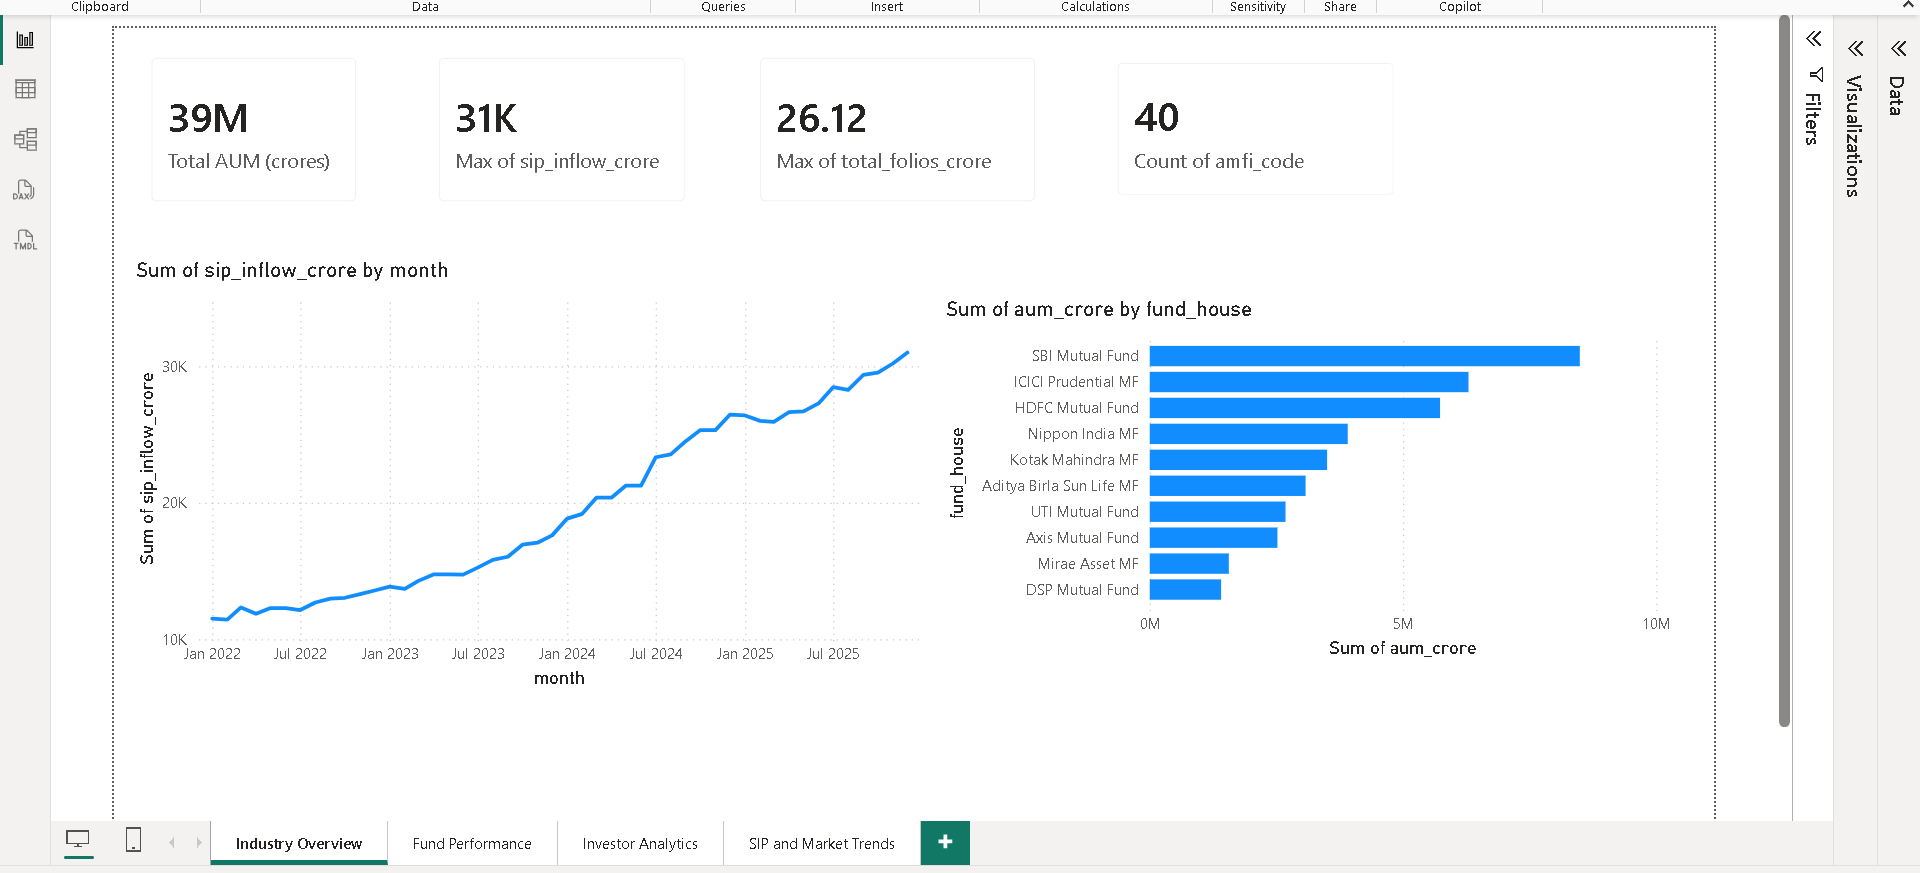

This screenshot's page, from the dashboard's own definition file:
{"tool":"powerbi","page":{"name":"Industry  Overview","canvas":[1280,720],"ordinal":0},"visuals":[{"type":"cardVisual","fields":{"Data":["Sum(clean_aum_by_fund_house.aum_crore)"]},"box":[12.9,7.1,198.6,148.6],"z":0},{"type":"cardVisual","fields":{"Data":["Max(clean_monthly_sip_inflows.sip_inflow_crore)"]},"box":[242.9,7.1,231.4,148.6],"z":1000},{"type":"cardVisual","fields":{"Data":["Max(clean_industry_folio_count.total_folios_crore)"]},"box":[500,7.1,254.3,148.6],"z":2000},{"type":"lineChart","fields":{"Y":["Sum(clean_monthly_sip_inflows.sip_inflow_crore)"],"Category":["clean_monthly_sip_inflows.month"]},"box":[12.9,182.9,648.6,350],"z":3000},{"type":"clusteredBarChart","fields":{"Category":["clean_aum_by_fund_house.fund_house"],"Y":["Sum(clean_aum_by_fund_house.aum_crore)"]},"box":[661.4,214.3,590,294.3],"z":4000},{"type":"cardVisual","fields":{"Data":["Count(clean_fund_master.amfi_code)"]},"box":[785.7,11.4,255.7,140],"z":5000}]}

Visuals, with their boxes on the page's 1280x720 design canvas (x1, y1, x2, y2). These are canvas units, not pixel positions in the 1920x873 screenshot, which may show the page scaled, cropped or inside an application window:
cardVisual - Sum(clean_aum_by_fund_house.aum_crore): [13, 7, 212, 156]
cardVisual - Max(clean_monthly_sip_inflows.sip_inflow_crore): [243, 7, 474, 156]
cardVisual - Max(clean_industry_folio_count.total_folios_crore): [500, 7, 754, 156]
lineChart - Sum(clean_monthly_sip_inflows.sip_inflow_crore) x clean_monthly_sip_inflows.month: [13, 183, 662, 533]
clusteredBarChart - clean_aum_by_fund_house.fund_house x Sum(clean_aum_by_fund_house.aum_crore): [661, 214, 1251, 509]
cardVisual - Count(clean_fund_master.amfi_code): [786, 11, 1041, 151]
